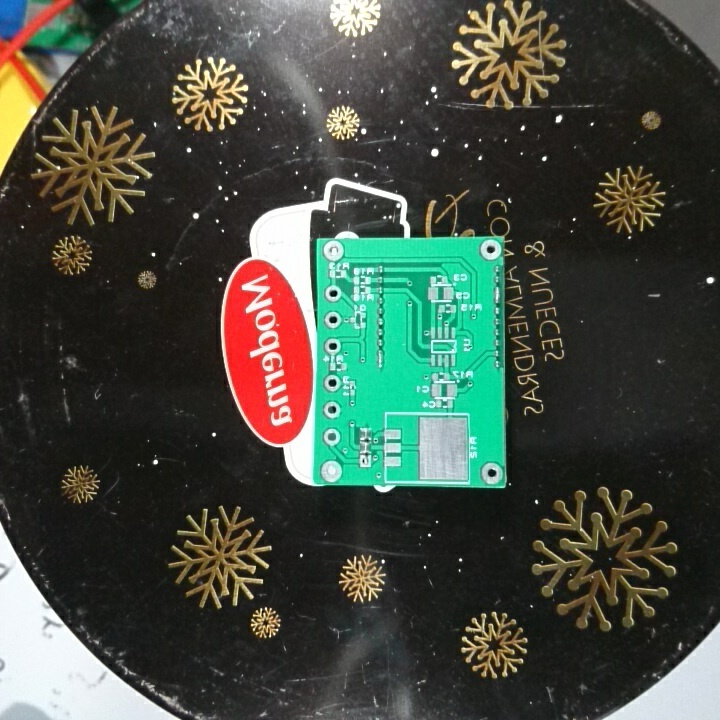F: (319, 458, 346, 483), (320, 238, 346, 263), (477, 238, 502, 263), (479, 460, 503, 486), (321, 373, 344, 395), (321, 426, 343, 449), (321, 308, 343, 330), (321, 335, 344, 356), (321, 400, 342, 422), (321, 283, 342, 304), (357, 452, 373, 472)
P: (375, 348, 387, 371), (491, 285, 504, 306)
